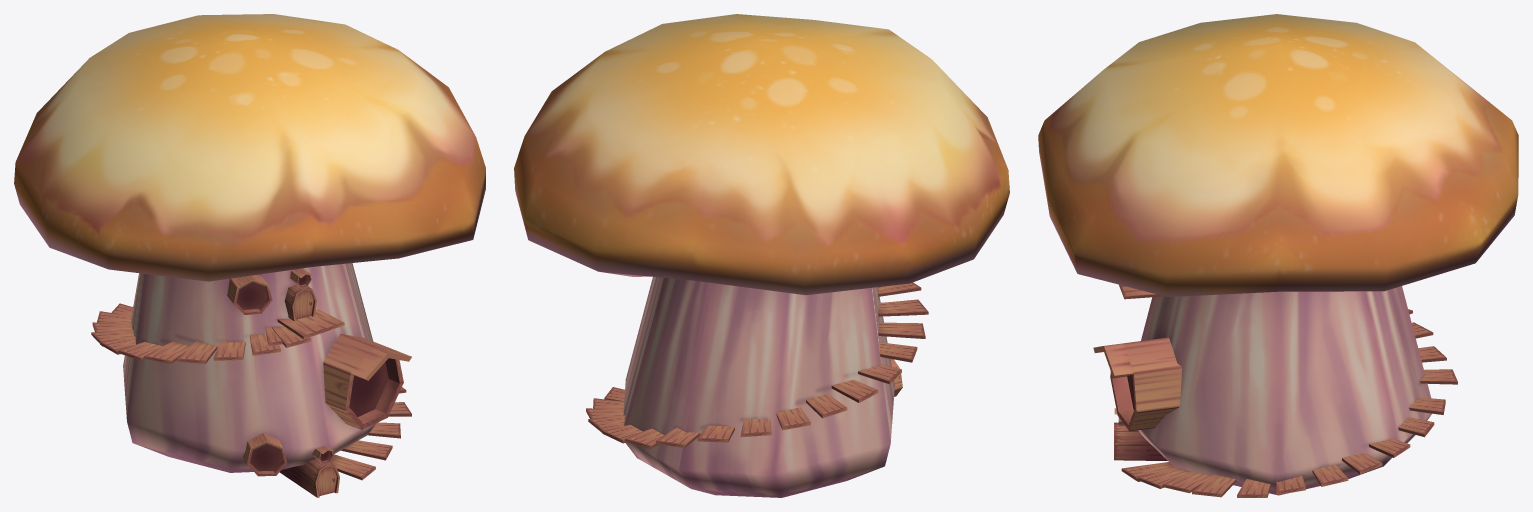
Rendered from MD_mushroom_home_M.fbx.
The picture shows the model from 3 angles, left to right: view 1: azimuth 30°, elevation 25°; view 2: azimuth 150°, elevation 25°; view 3: azimuth 270°, elevation 25°; orthographic projection. The views are drawn at different scales.
Visible parts, largest first — view 1: mushroom_home_M2; view 2: mushroom_home_M2; view 3: mushroom_home_M2.
Part boxes in pixels (box(x1,y1,x2,y2)): mushroom_home_M2: box(14, 14, 485, 497); mushroom_home_M2: box(514, 14, 1009, 497); mushroom_home_M2: box(1038, 14, 1518, 497).
Bounding box in the file's own units: 1479 × 1360 × 1448.
Materials: 1 (1 with a texture image).
